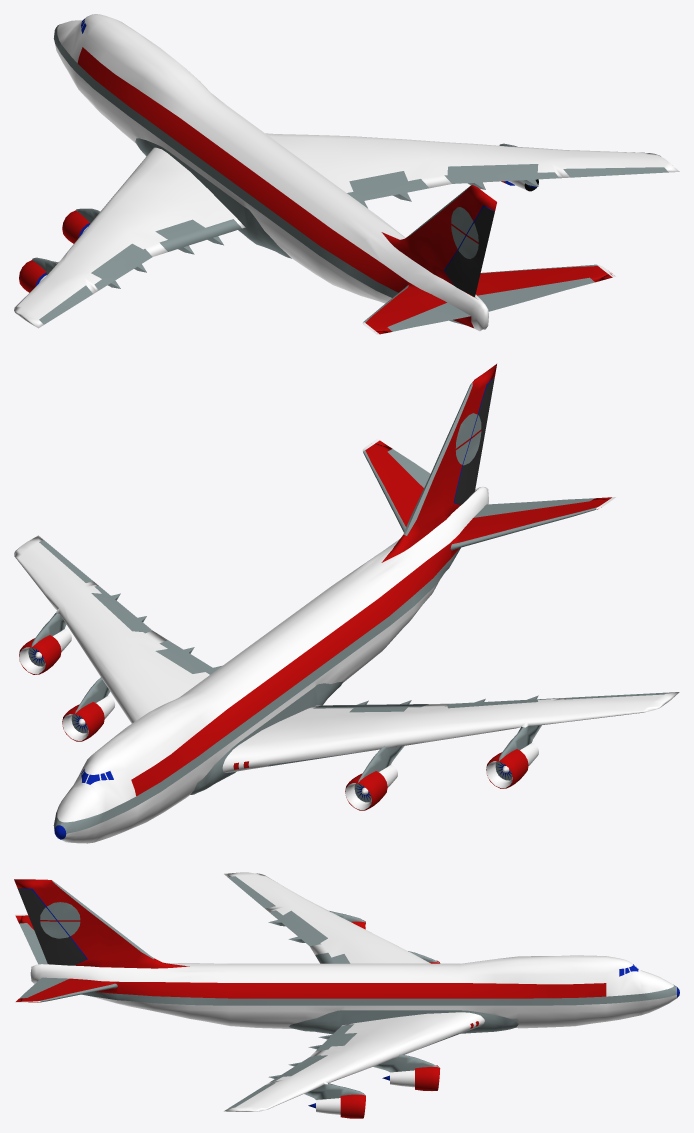
3 views of the same model, one above another, from view 1: azimuth 30°, elevation 25°; view 2: azimuth 150°, elevation 25°; view 3: azimuth 270°, elevation 25° (orthographic). The views are drawn at different scales.
Parts seen in each view (by area): view 1: MAIN FUSEL, UPPER STRI, WING BOX A, LOGO & STR, RUDDER; view 2: MAIN FUSEL, UPPER STRI, WING BOX A, LOGO & STR, RUDDER, BLACK TRIM; view 3: MAIN FUSEL, UPPER STRI, WING BOX A, LOGO & STR, RUDDER.
Part boxes in pixels (x1,y1,x2,y2): MAIN FUSEL: (14, 14, 679, 334); UPPER STRI: (19, 47, 612, 334); WING BOX A: (32, 138, 668, 331); LOGO & STR: (53, 24, 597, 325); RUDDER: (444, 207, 494, 296); MAIN FUSEL: (14, 438, 679, 843); UPPER STRI: (19, 364, 611, 810); WING BOX A: (28, 449, 667, 802); LOGO & STR: (53, 382, 597, 833); RUDDER: (454, 377, 494, 504); BLACK TRIM: (29, 378, 511, 839); MAIN FUSEL: (14, 872, 676, 1114); UPPER STRI: (14, 879, 606, 1118); WING BOX A: (19, 876, 518, 1108); LOGO & STR: (38, 880, 676, 1005); RUDDER: (17, 888, 86, 965).
Size of the model in its own units: 196 by 60.53 by 231.
